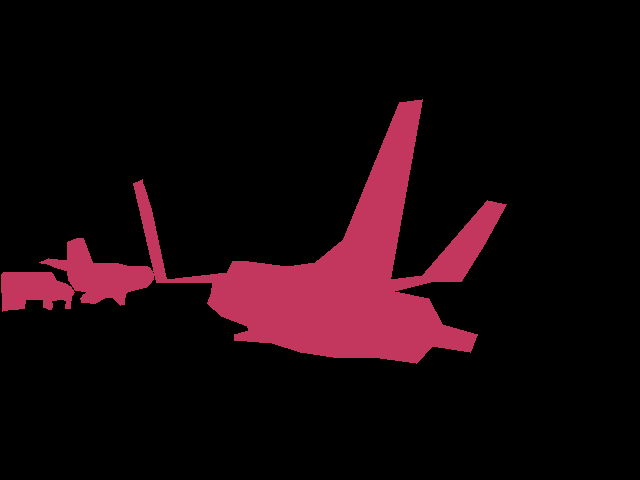Airplane: (133, 99, 506, 363), (39, 238, 154, 305), (1, 272, 75, 311)
